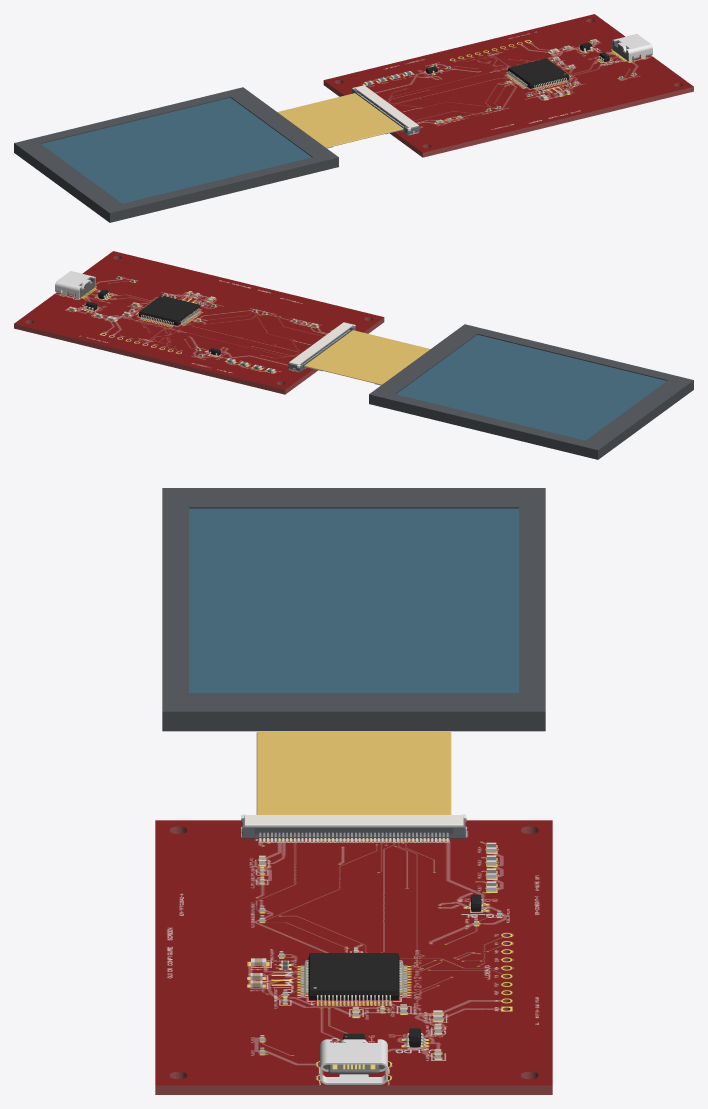
The picture shows the model from 3 angles, top to bottom: view 1: azimuth 30°, elevation 25°; view 2: azimuth 150°, elevation 25°; view 3: azimuth 270°, elevation 25°; orthographic projection. The views are drawn at different scales.
Visible parts, largest first — view 1: J_DISPLAY, Box0, U_MAIN, J_USB; view 2: J_DISPLAY, Box0, U_MAIN, J_USB; view 3: J_DISPLAY, Box0, U_MAIN, J_USB.
Boxes of the visible parts, x1,y1,x2,y2 form: J_DISPLAY: (14, 85, 419, 222); Box0: (323, 14, 693, 157); U_MAIN: (506, 58, 570, 89); J_USB: (611, 34, 652, 62); J_DISPLAY: (288, 322, 693, 459); Box0: (14, 251, 384, 394); U_MAIN: (137, 295, 201, 326); J_USB: (55, 271, 96, 299); J_DISPLAY: (162, 488, 545, 842); Box0: (155, 820, 552, 1094); U_MAIN: (300, 953, 407, 1004); J_USB: (320, 1039, 387, 1084).
Size of the model in its own units: 176 by 5.53 by 52.
Materials: 25 (2 with a texture image).
